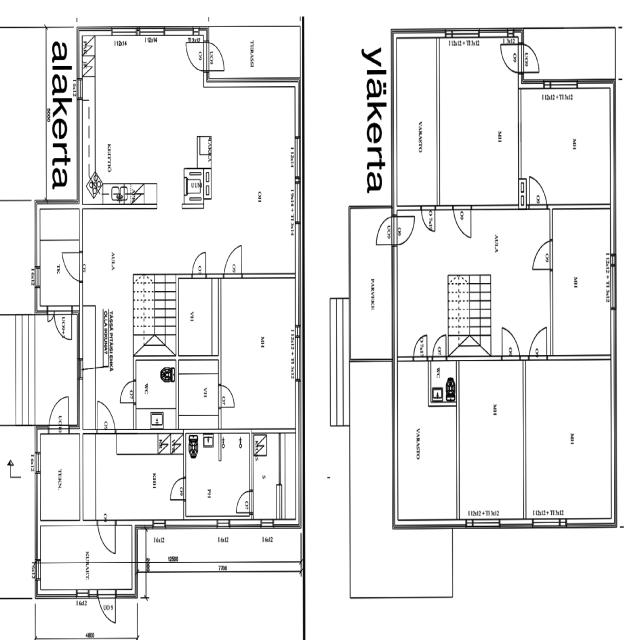door: (46, 394, 71, 429), (96, 518, 118, 556), (526, 173, 549, 209), (499, 324, 521, 360), (222, 242, 244, 278), (452, 202, 473, 239), (394, 211, 416, 246), (530, 238, 554, 270), (97, 588, 117, 625), (61, 249, 83, 281), (529, 324, 549, 358), (96, 398, 116, 432), (500, 41, 521, 72), (521, 42, 541, 74), (186, 38, 206, 70), (374, 214, 394, 246), (206, 40, 227, 70), (217, 381, 237, 409), (190, 248, 208, 278), (420, 203, 437, 234), (54, 309, 71, 339), (234, 488, 253, 514), (412, 332, 429, 360), (118, 379, 137, 404), (168, 475, 186, 501), (432, 334, 448, 359)
window: (292, 126, 306, 219), (389, 255, 401, 351), (606, 250, 620, 315), (546, 268, 555, 342), (293, 324, 304, 384), (542, 76, 580, 92), (532, 514, 565, 532), (468, 515, 501, 532), (449, 26, 481, 43), (33, 207, 41, 270), (110, 25, 140, 40), (137, 24, 166, 39), (150, 516, 168, 530), (33, 560, 42, 585), (215, 516, 231, 529), (259, 517, 274, 529)
zone: (204, 85, 296, 275), (523, 358, 613, 522), (438, 36, 520, 207), (465, 208, 552, 357), (218, 273, 298, 431), (520, 86, 614, 206), (0, 23, 63, 201), (458, 359, 526, 523), (395, 362, 458, 526), (550, 205, 613, 358), (88, 430, 186, 522), (394, 34, 439, 205), (36, 523, 139, 594), (349, 206, 394, 363), (0, 430, 37, 602), (135, 359, 219, 429), (186, 431, 252, 519), (37, 430, 84, 526), (39, 213, 84, 311), (252, 432, 298, 522), (178, 277, 220, 358), (448, 271, 477, 348), (429, 358, 457, 404)
